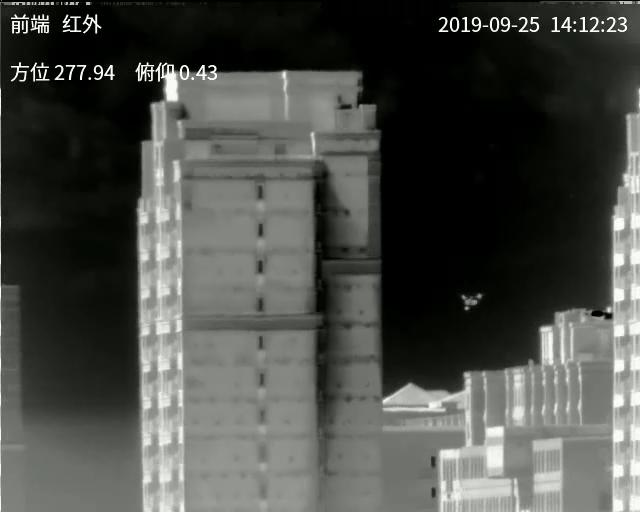uav: (460, 289, 482, 311)
